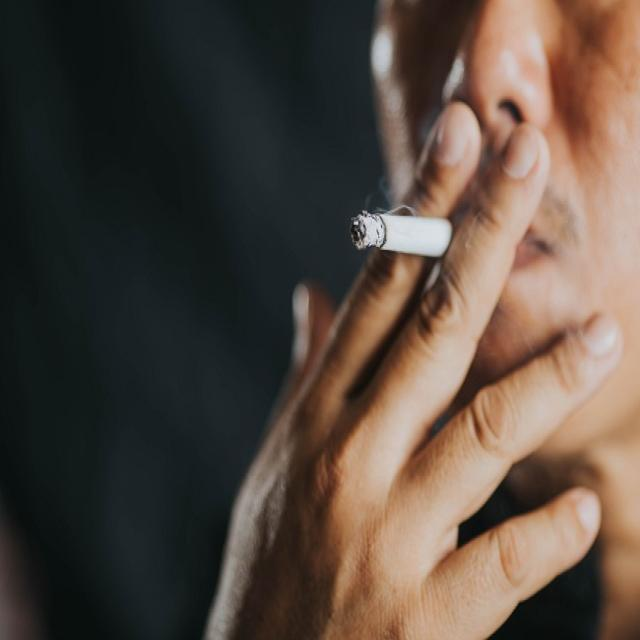rokok: (349, 207, 461, 265)
